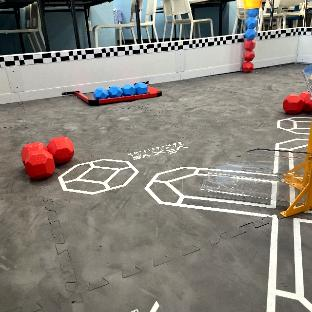Parking-R: (74, 85, 160, 105)
V5_BLUE: (94, 82, 148, 99)
V5_RED: (21, 136, 74, 179), (284, 91, 312, 113), (244, 39, 254, 70)
